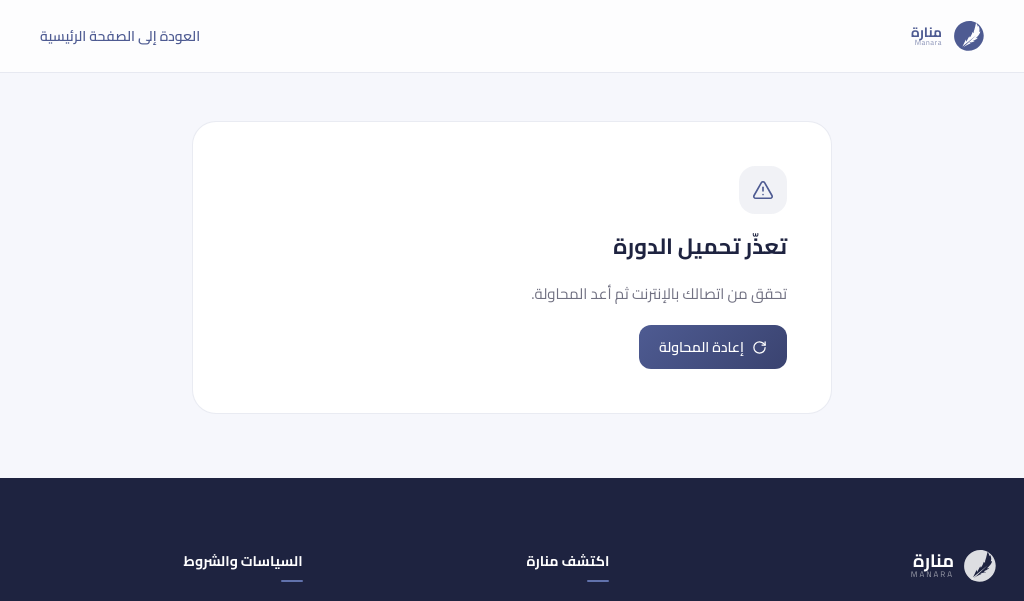
Test case: failures › reports a failure and recovers on retry
This screenshot has width=1024, height=601.
Expected: the message shows "تعذّر تحميل الدورة", [613,225,787,267]
Expected: the message shows "تحقق من اتصالك بالإنترنت", [531,279,787,308]
Click the button "إعادة المحاولة".
click(713, 347)  # box [639,325,787,369]
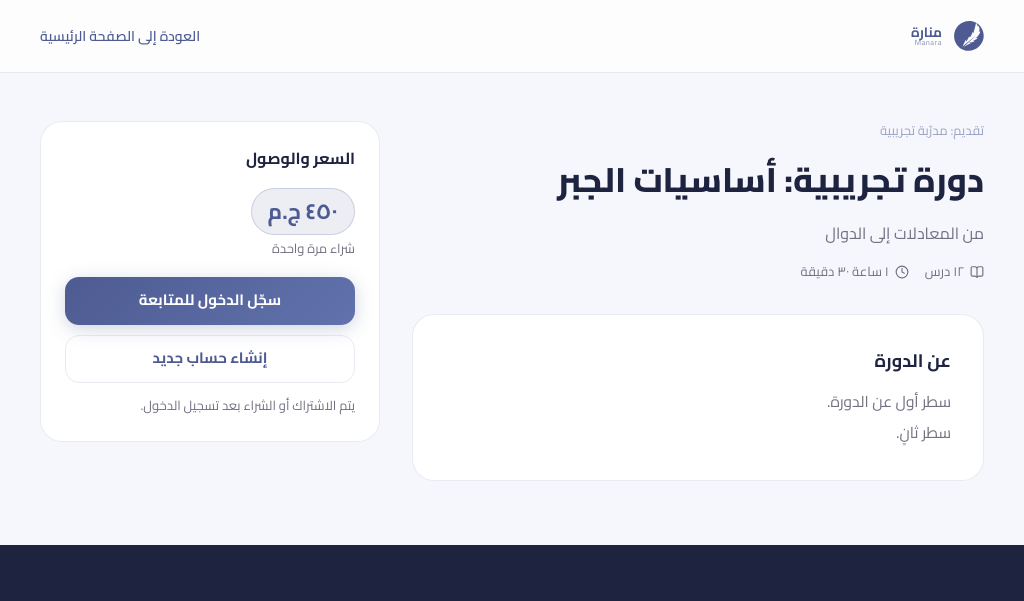
Result: the heading "دورة تجريبية: أساسيات الجبر" is shown at [557,148,984,210]
